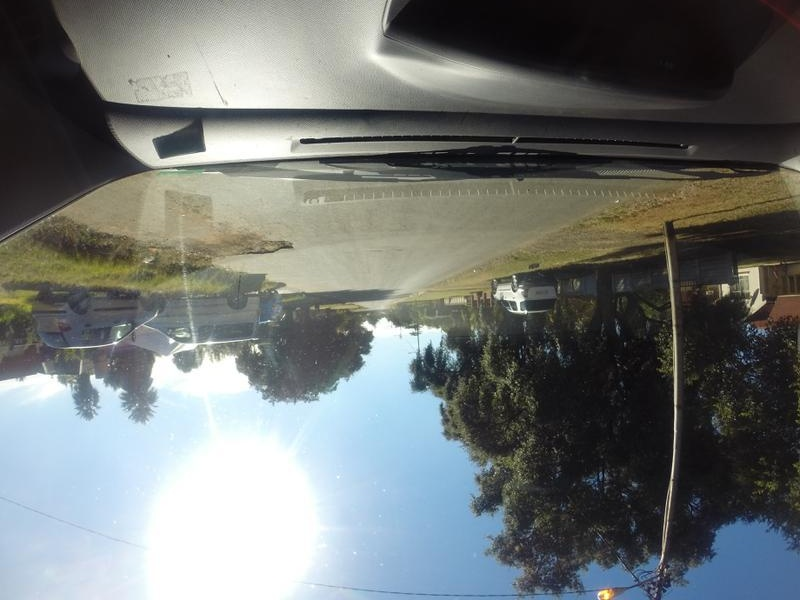pothole: (181, 226, 294, 255)
